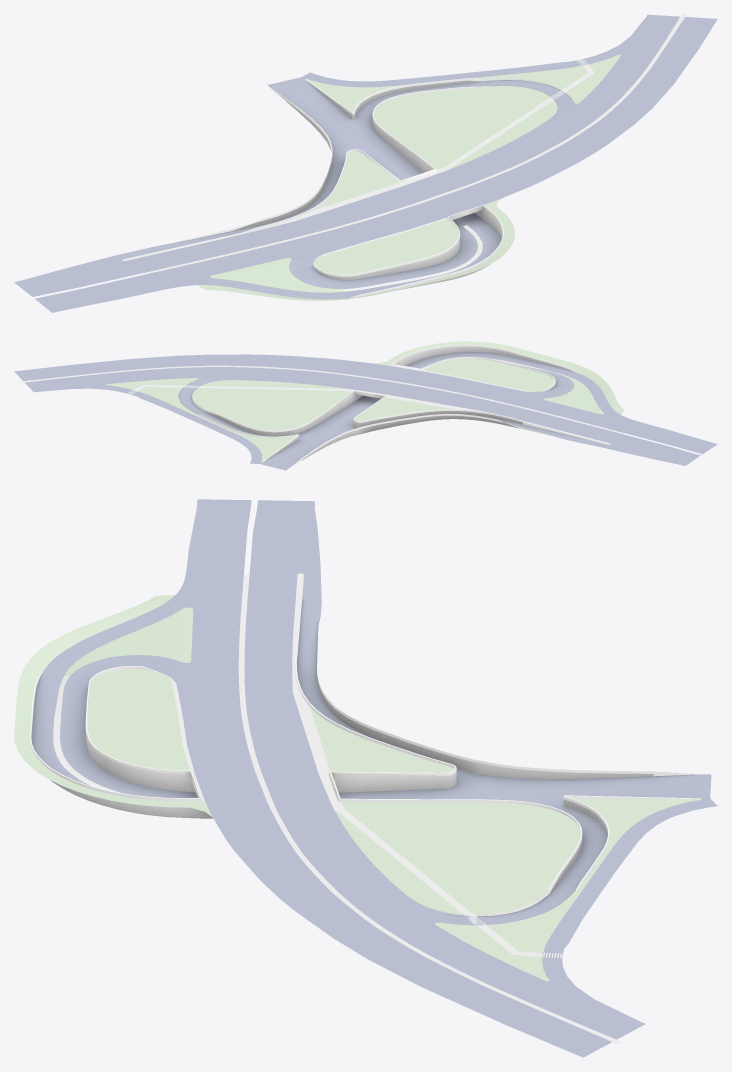
File: Al-Rozybakieva.glb
3 renders of one model, top to bottom at view 1: azimuth 30°, elevation 25°; view 2: azimuth 150°, elevation 25°; view 3: azimuth 270°, elevation 25°, orthographic. The views are drawn at different scales.
Visible parts, largest first — view 1: group_14.001, group_3, group_4.002, group_5.001; view 2: group_14.001, group_3, group_4.002, group_5.001; view 3: group_14.001, group_3, group_4.002, group_5.001.
Part boxes in pixels (x1=…): group_14.001: x1=14, y1=14, x2=717, y2=312; group_3: x1=197, y1=54, x2=620, y2=300; group_4.002: x1=176, y1=78, x2=572, y2=297; group_5.001: x1=122, y1=14, x2=686, y2=291; group_14.001: x1=14, y1=352, x2=717, y2=470; group_3: x1=106, y1=341, x2=624, y2=462; group_4.002: x1=178, y1=344, x2=603, y2=468; group_5.001: x1=19, y1=358, x2=623, y2=444; group_14.001: x1=31, y1=499, x2=717, y2=1057; group_3: x1=14, y1=594, x2=701, y2=981; group_4.002: x1=29, y1=590, x2=700, y2=916; group_5.001: x1=53, y1=573, x2=622, y2=1044.
Bounding box in the file's own units: 463 × 8 × 247.
Materials: 5 (2 with a texture image).
